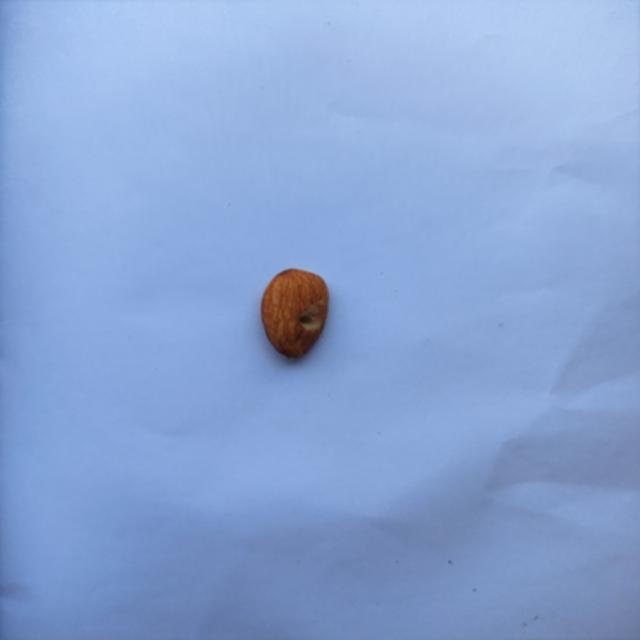grade3: (259, 265, 334, 363)
